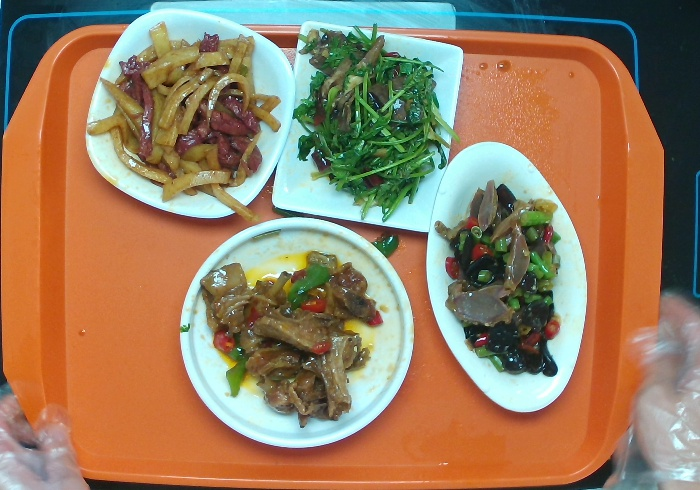HZYJPL-Si_Fang_Die: (268, 20, 463, 235)
HZYJPL-Si_Fang_Yuan_Die: (83, 8, 296, 219)
HZYJPL-Xiao_Yu_Die: (427, 141, 590, 415)
HZYJPL-Xiao_Yuan_Die: (179, 216, 415, 450)
